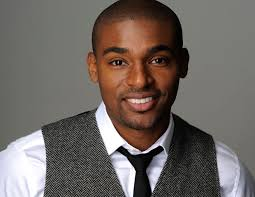black_male: (82, 1, 188, 135)
